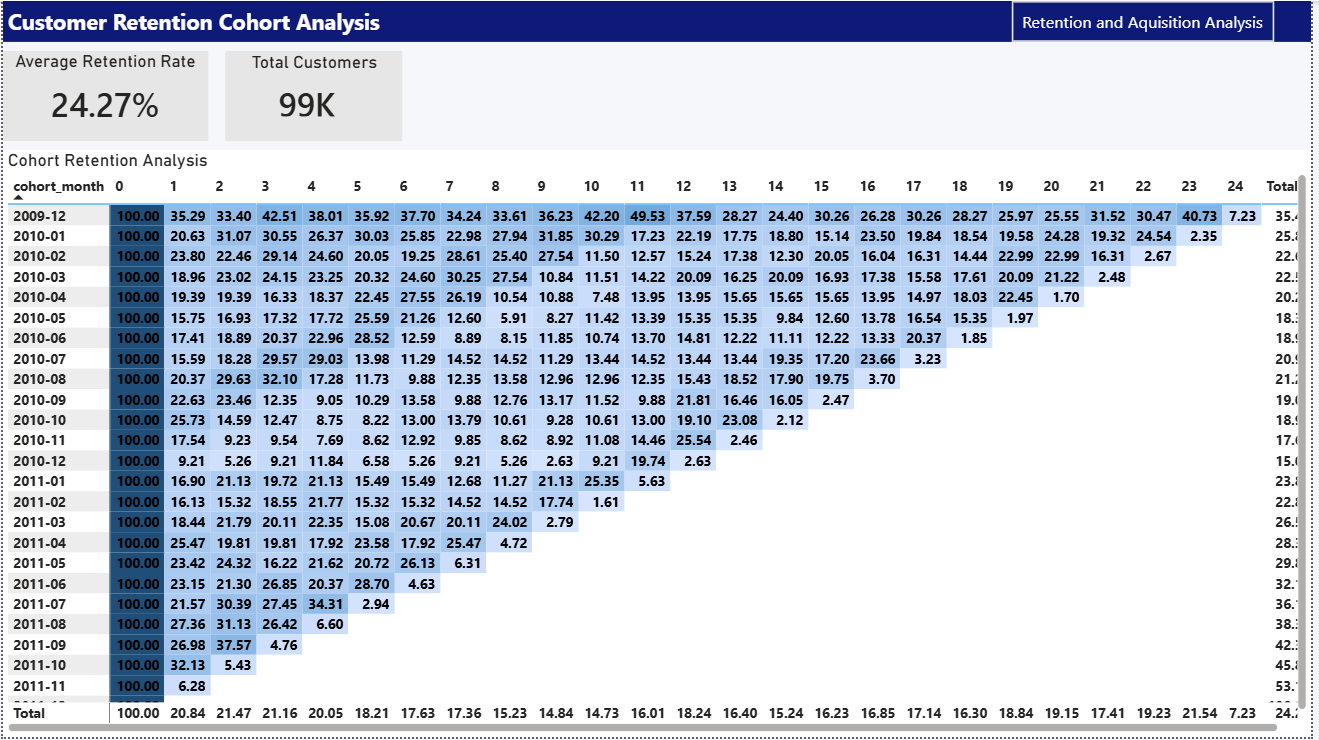

The page's visual inventory and layout, read from the dashboard file:
{"tool":"powerbi","page":{"name":"Page 1","canvas":[1280,720],"ordinal":0},"visuals":[{"type":"pivotTable","title":"Cohort Retention Analysis","fields":{"Rows":["retail_data retention_final.cohort_month"],"Columns":["retail_data retention_final.month_index"],"Values":["Avg(retail_data retention_final.retention_percentage)"]},"box":[0,145.5,1280.3,574.7],"z":0},{"type":"clusteredColumnChart","fields":{"Category":["retail_data retention_final.cohort_month"],"Y":["Sum(retail_data retention_final.total_users)"]},"box":[1473.5,586.8,526.9,412.4],"z":1000},{"type":"cardVisual","fields":{"Data":["Sum(retail_data retention_final.total_users)"]},"box":[1289.9,432.1,209.8,140.9],"z":2000},{"type":"cardVisual","fields":{"Data":["Avg(retail_data retention_final.retention_percentage)"]},"box":[1289.9,573,209.8,222.3],"z":3000},{"type":"textbox","box":[0,0,1280.3,40.4],"z":4000,"group":"g1"},{"type":"cardVisual","title":"Average Retention Rate","fields":{"Data":["retail_data retention_final.Avg_Retention"]},"box":[0,48.9,200.5,88],"z":4000},{"type":"cardVisual","title":"Total Customers","fields":{"Data":["Sum(retail_data retention_final.total_users)"]},"box":[217.7,48.9,172.4,88],"z":5000},{"type":"group","id":"g1","title":"Group 1","box":[0,0,1280.3,40.4],"z":6000},{"type":"actionButton","box":[986.8,0,256.8,40.4],"z":6001,"group":"g1"}]}

Visuals, with their boxes in screenshot pixels (x1, y1, x2, y2), scaled from the page's 1280x720 canvas onto the 1319x740 screenshot:
"Cohort Retention Analysis" pivotTable: region(0, 150, 1318, 739)
textbox: region(0, 0, 1318, 42)
"Average Retention Rate" cardVisual: region(0, 50, 207, 141)
"Total Customers" cardVisual: region(224, 50, 402, 141)
"Group 1" group: region(0, 0, 1318, 42)
actionButton: region(1017, 0, 1281, 42)
